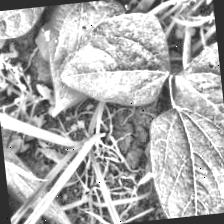ALS: (57, 9, 173, 104), (41, 0, 118, 109), (149, 118, 223, 220), (171, 41, 224, 166)
